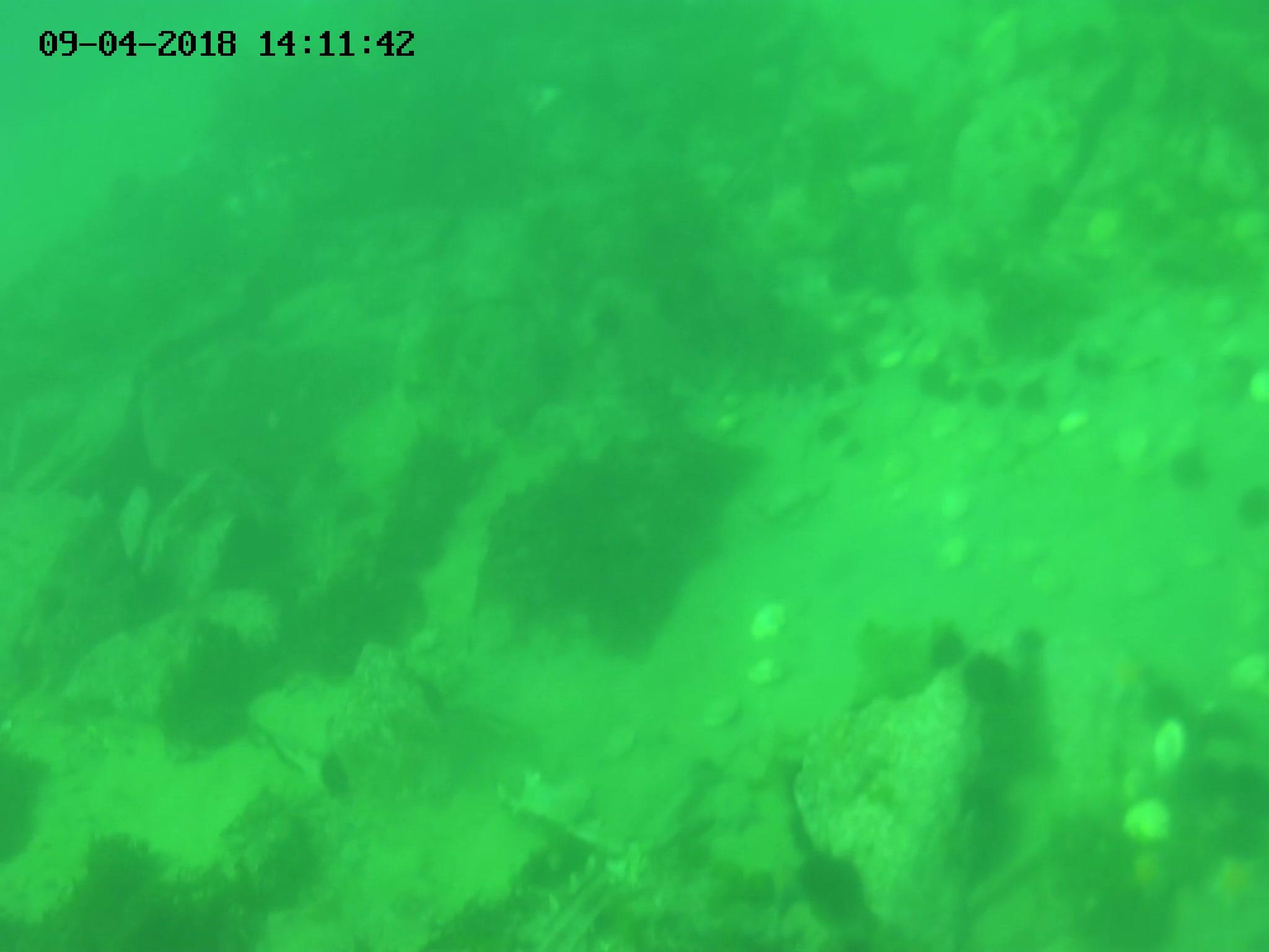scallop: (117, 488, 159, 562), (1120, 803, 1170, 846), (1150, 721, 1187, 773), (747, 599, 787, 640), (750, 655, 792, 689), (934, 485, 975, 519), (1035, 568, 1076, 601), (934, 537, 971, 573), (701, 700, 737, 731)
starfish: (801, 847, 861, 915), (963, 656, 1020, 711), (1172, 454, 1210, 492), (920, 358, 951, 397), (1015, 378, 1047, 411), (978, 377, 1009, 409), (845, 356, 876, 386), (816, 418, 845, 449), (928, 636, 960, 664)
